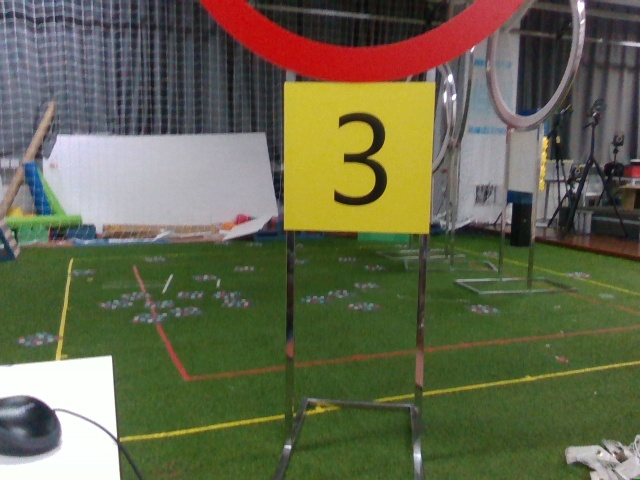target: (283, 91, 429, 229)
